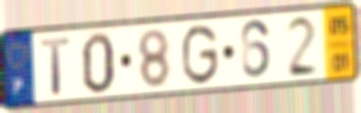0: (79, 30, 118, 96)
2: (282, 15, 320, 79)
6: (239, 17, 274, 83)
8: (134, 27, 173, 89)
G: (180, 22, 221, 88)
T: (39, 34, 73, 97)
